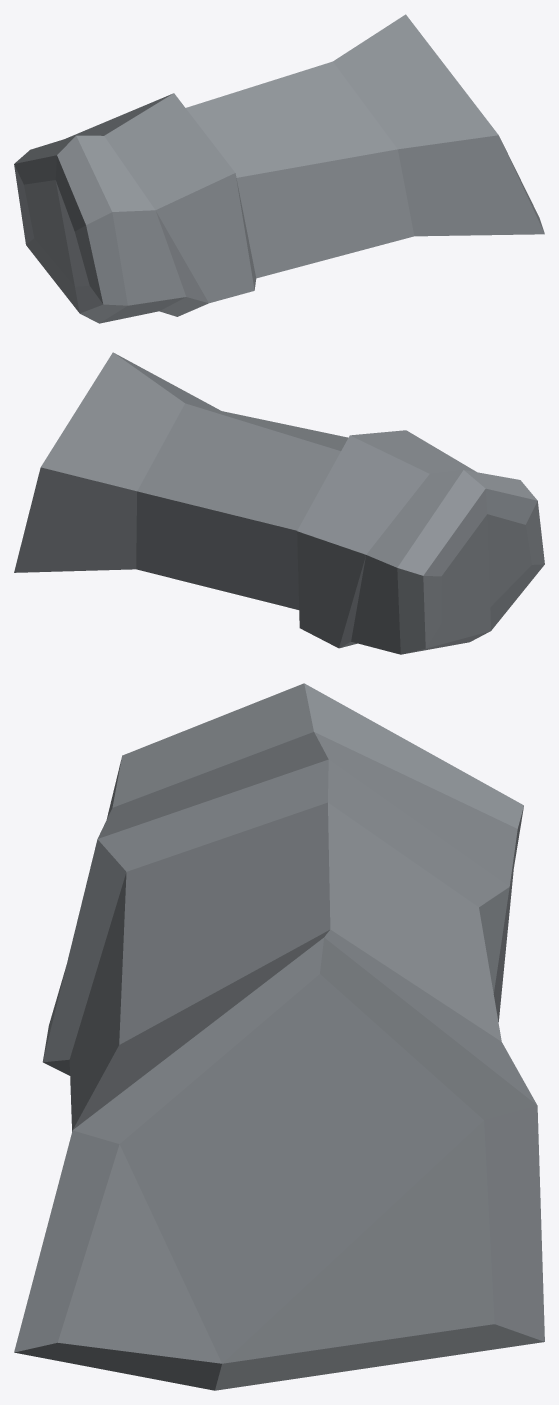
Rendered from Chr_ArmUpperRight_Male_15_Static.fbx.
The picture shows the model from 3 angles, top to bottom: view 1: azimuth 30°, elevation 25°; view 2: azimuth 150°, elevation 25°; view 3: azimuth 270°, elevation 25°; orthographic projection. The views are drawn at different scales.
Parts seen in each view (by area): view 1: Chr_ArmUpperRight_Male_15_Static; view 2: Chr_ArmUpperRight_Male_15_Static; view 3: Chr_ArmUpperRight_Male_15_Static.
Boxes of the visible parts, x1=… form: Chr_ArmUpperRight_Male_15_Static: x1=14, y1=14, x2=544, y2=323; Chr_ArmUpperRight_Male_15_Static: x1=14, y1=352, x2=544, y2=654; Chr_ArmUpperRight_Male_15_Static: x1=14, y1=683, x2=544, y2=1390.
Bounding box in the file's own units: 0.3257 × 0.1641 × 0.1736.
